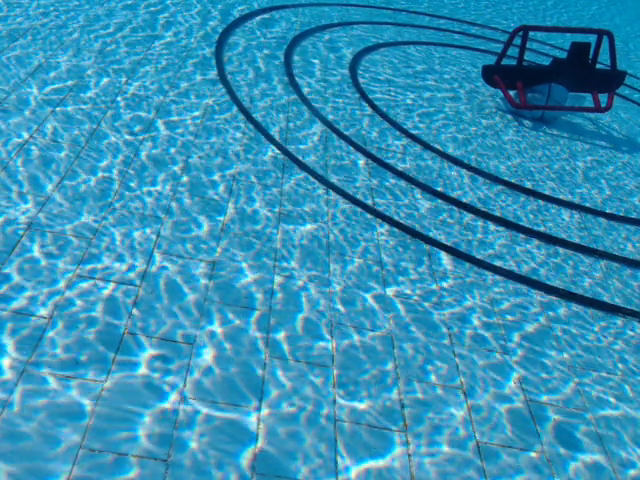submarine: (481, 23, 628, 115)
